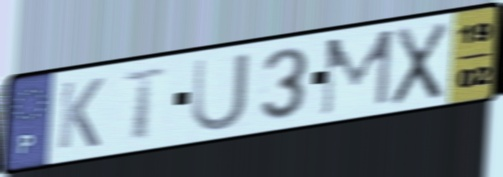3: (256, 45, 311, 123)
K: (54, 74, 107, 153)
M: (317, 26, 397, 119)
T: (119, 64, 172, 143)
U: (190, 49, 253, 136)
X: (388, 19, 451, 110)
